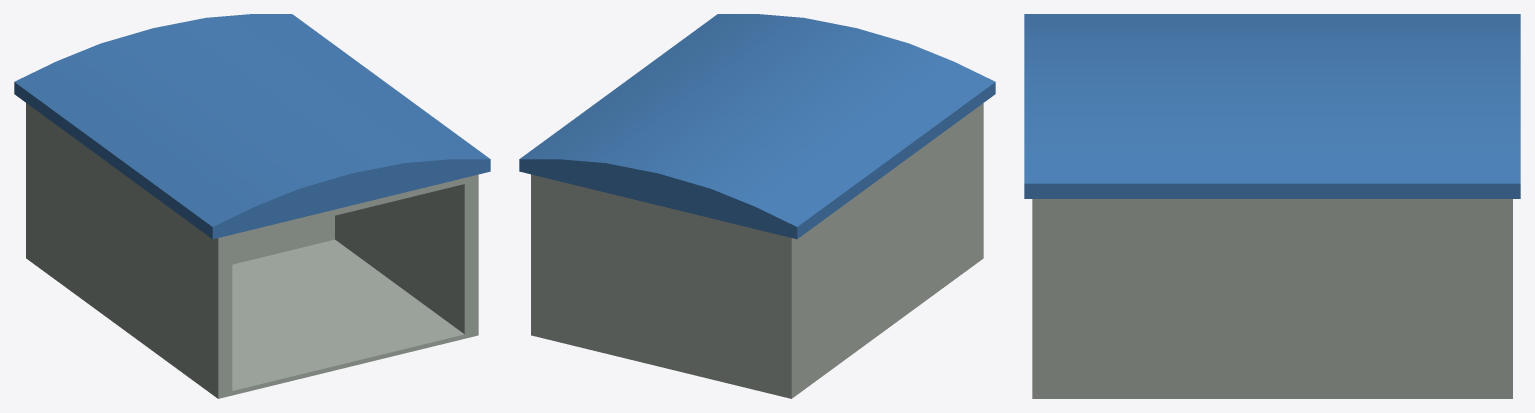
File: Plane's Garage_1.fbx
3 renders of one model, left to right at view 1: azimuth 30°, elevation 25°; view 2: azimuth 150°, elevation 25°; view 3: azimuth 270°, elevation 25°, orthographic. The views are drawn at different scales.
Visible parts, largest first — view 1: Plane's Garage_1; view 2: Plane's Garage_1; view 3: Plane's Garage_1.
Part boxes in pixels (x1,y1,x2,y2): Plane's Garage_1: [14, 14, 490, 398]; Plane's Garage_1: [519, 14, 995, 398]; Plane's Garage_1: [1024, 14, 1520, 398].
Bounding box in the file's own units: 1269 × 855 × 1569.
